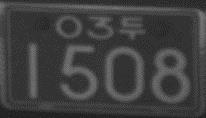0: (103, 46, 145, 104), (54, 14, 83, 39)
1: (17, 42, 49, 99)
3: (87, 15, 113, 41)
5: (59, 44, 98, 102)
8: (149, 47, 192, 104)
두: (119, 16, 146, 40)
